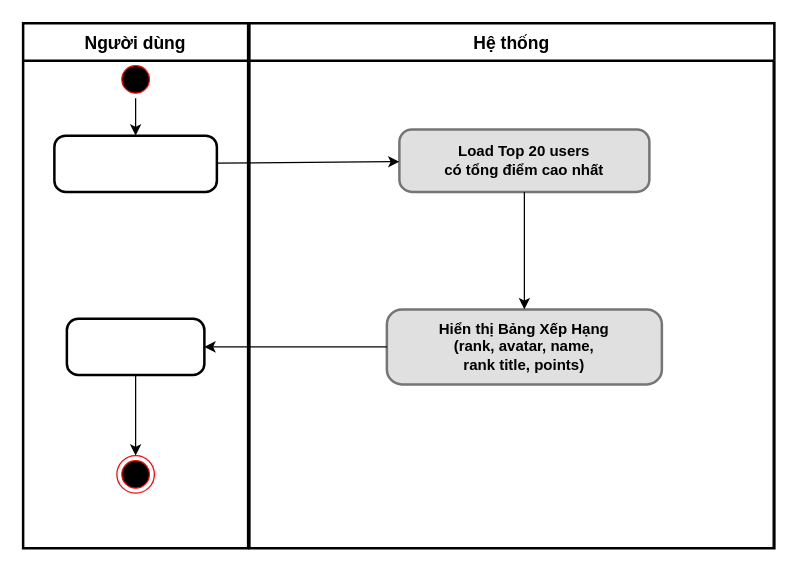
This 796x570 diagram has some shape labels left out. The centre of each missing label's shape, as x and y in pixels:
Nhấn icon Bảng Xếp Hạng: (x=135, y=163)
Xem danh sách Top 20: (x=135, y=346)
